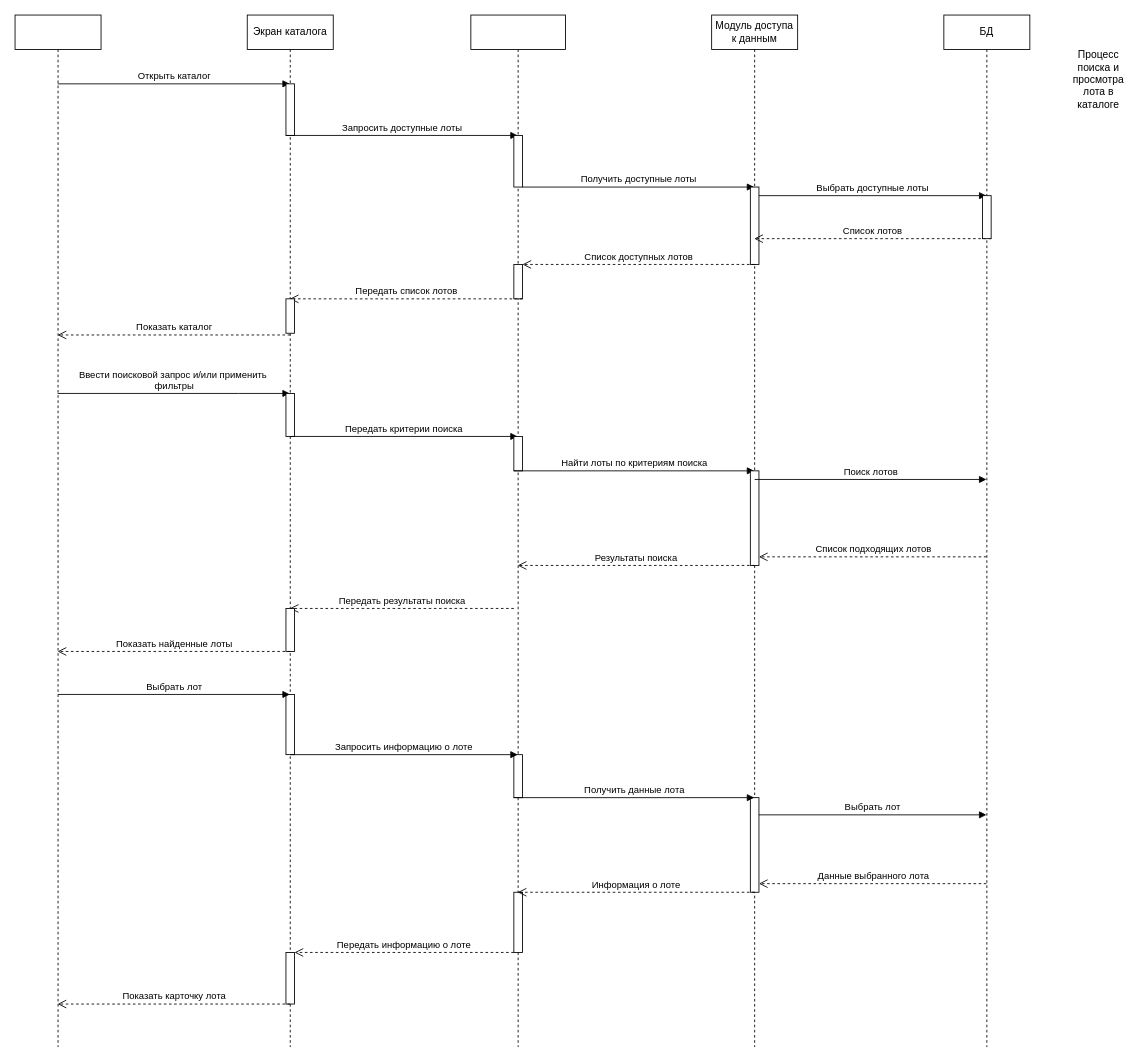
The diagram is 1140 pixels wide and 1062 high, and some of its shapes have lost their labels. The shapes that lost their labels are listed below. From the top down, each one's box as (x1, y1, x2, y2) in pixels, then its label:
(14, 14, 101, 1047): Клиент
(470, 14, 565, 1047): Модуль каталога наборов
